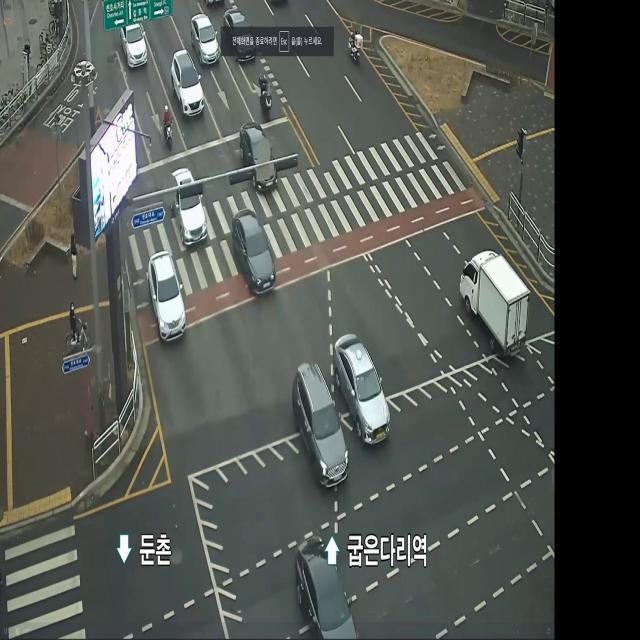bus: (259, 74, 272, 118), (348, 30, 362, 66), (162, 104, 172, 148)
motorcycle: (291, 363, 345, 487), (334, 331, 390, 442), (296, 536, 355, 640), (146, 249, 186, 348), (231, 209, 273, 290), (173, 170, 206, 242), (242, 123, 276, 189), (171, 51, 204, 115), (224, 12, 255, 63), (190, 14, 218, 64), (120, 23, 147, 69)
truck: (455, 246, 530, 362)
